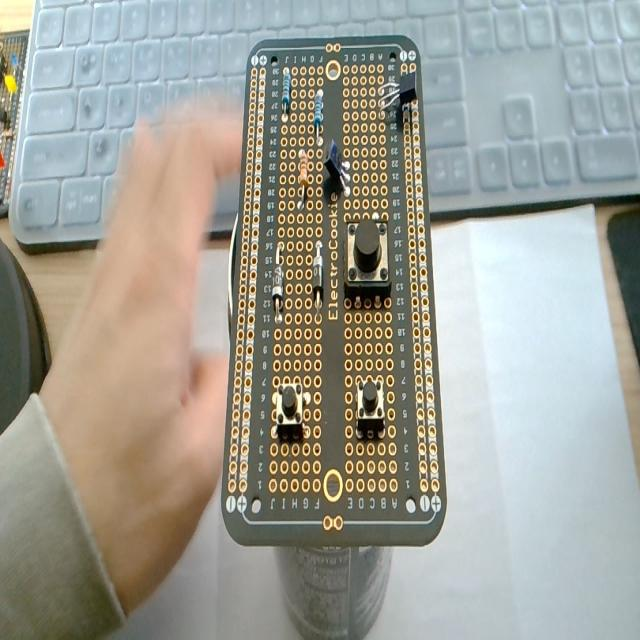diode: (272, 244, 284, 325), (312, 242, 324, 309)
resistor: (312, 89, 324, 141), (281, 69, 291, 113)
switch: (344, 219, 390, 304), (354, 376, 384, 437), (275, 379, 306, 438)
transistor: (378, 73, 418, 127), (323, 139, 352, 201)
